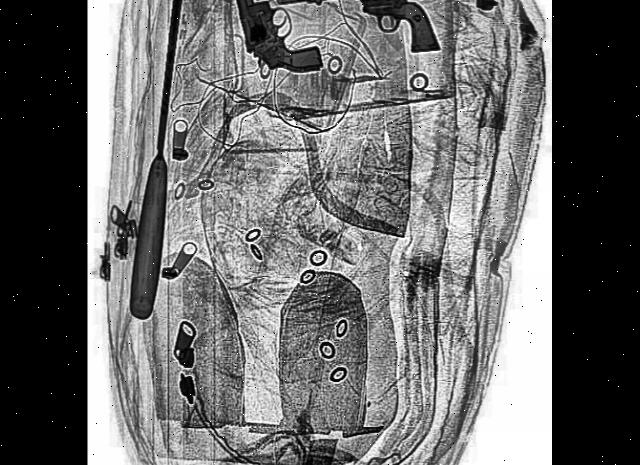Gun: (207, 0, 333, 110), (277, 0, 441, 50)
Knife: (127, 0, 206, 320)
